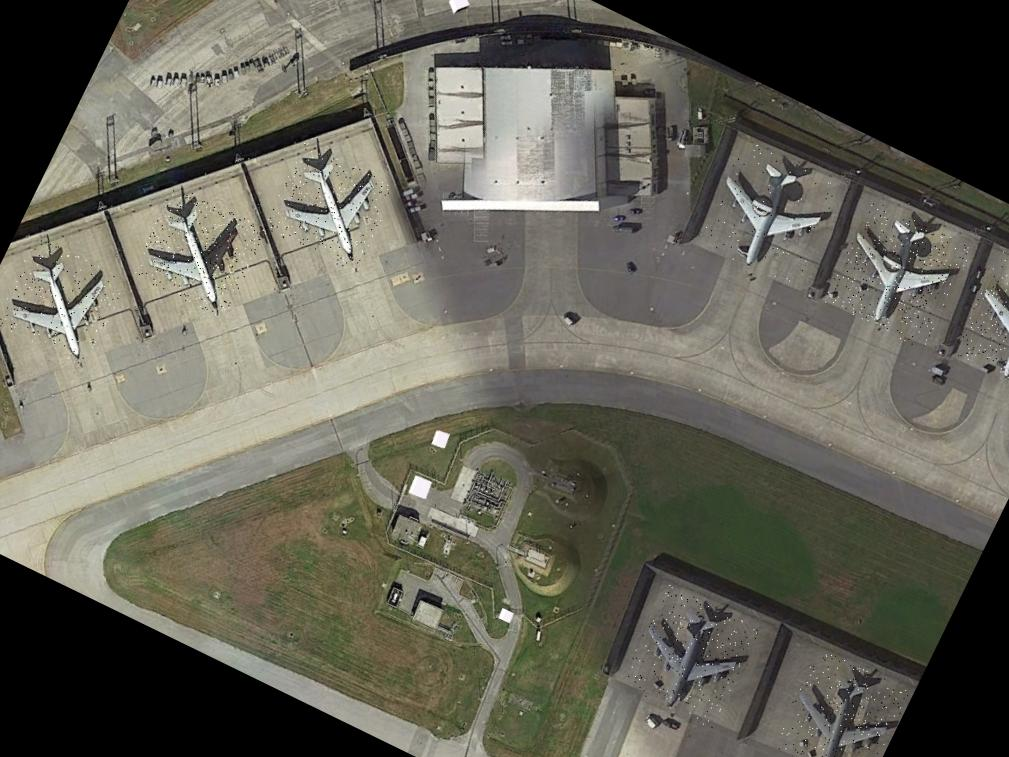A11: (130, 183, 266, 318), (262, 141, 397, 272), (0, 235, 127, 367), (950, 248, 1009, 398)
A14: (618, 583, 760, 728), (769, 646, 910, 757)
A7: (822, 198, 972, 349), (694, 138, 844, 288)
